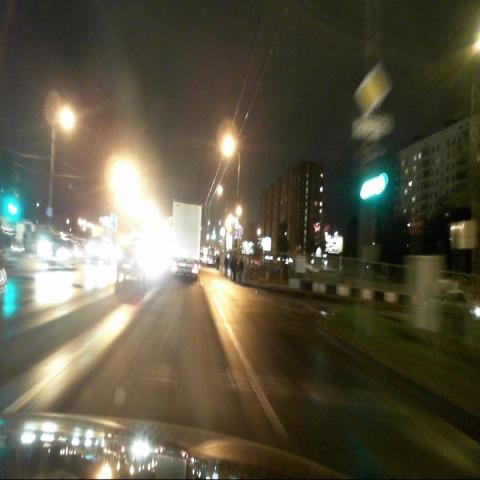2_1: (366, 64, 391, 110)
6_16: (361, 113, 392, 136)
